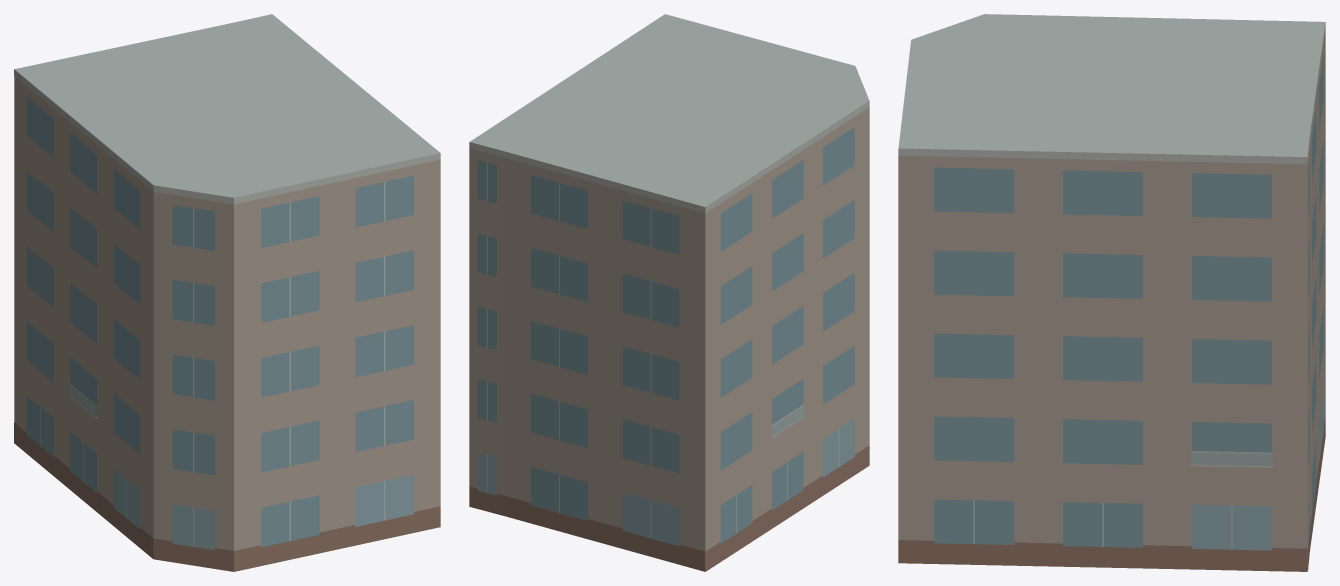
Rendered from survey-upis-32644409.glb.
3 views of the same model, side by side, from view 1: azimuth 30°, elevation 25°; view 2: azimuth 150°, elevation 25°; view 3: azimuth 270°, elevation 25° (orthographic). The views are drawn at different scales.
Parts seen in each view (by area): view 1: survey-upis-32644409.tmp; view 2: survey-upis-32644409.tmp; view 3: survey-upis-32644409.tmp.
Part boxes in pixels (x1,y1,x2,y2): survey-upis-32644409.tmp: (14, 14, 440, 571); survey-upis-32644409.tmp: (469, 14, 869, 571); survey-upis-32644409.tmp: (898, 14, 1325, 571).
Size of the model in its own units: 10.47 by 14.13 by 13.2.
